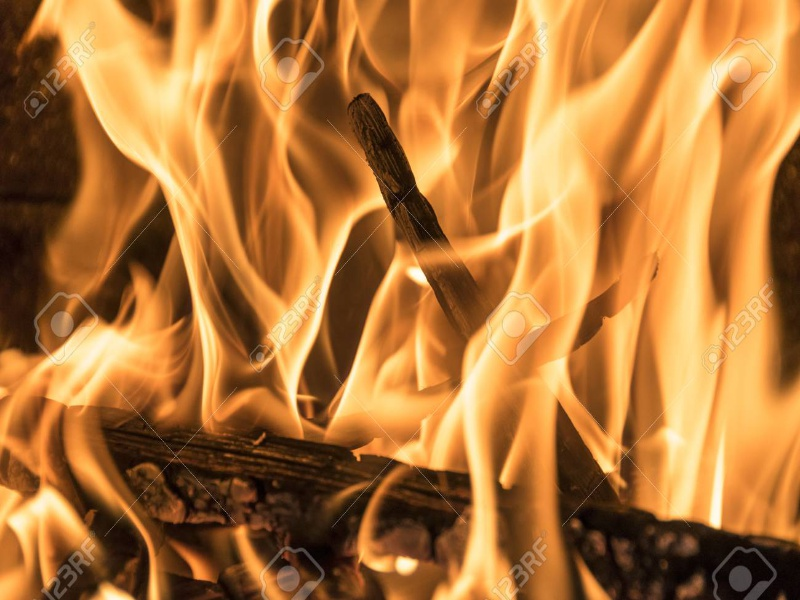fire: (1, 1, 796, 595)
